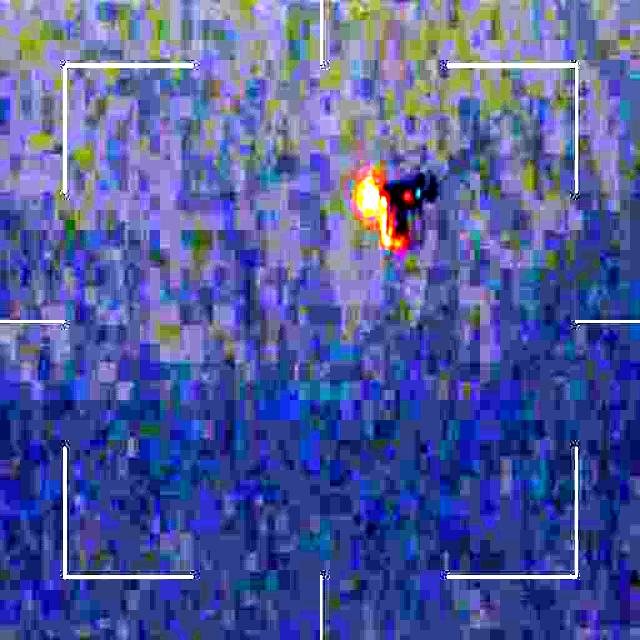bird: (352, 162, 442, 261)
